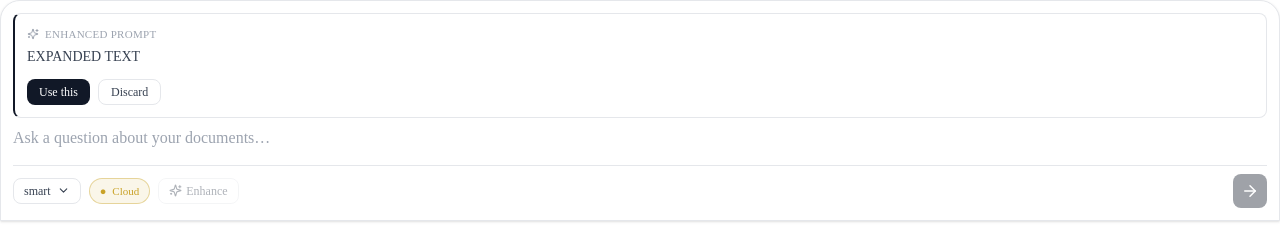
Composer › renders the preview and applies accepted text to the textarea
The image size is (1280, 239).
Click the button with test id "enhance-accept".
click(58, 92)  # box x1=27 y1=78 x2=90 y2=104
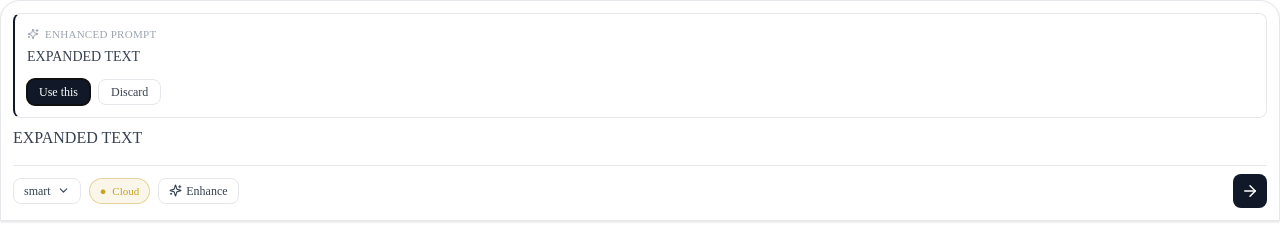
Check: the text box holds "EXPANDED TEXT", box x1=13 y1=126 x2=1267 y2=150
